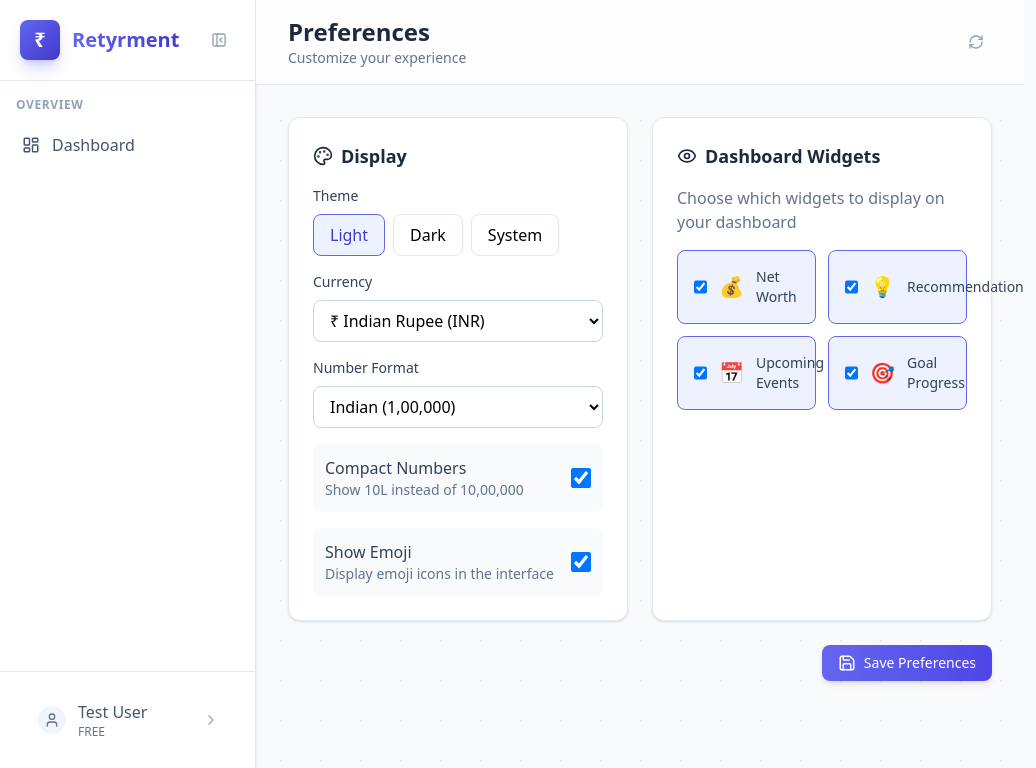
Test: Preferences › hides dashboard emoji icons when showEmoji is disabled
Click the checkbox next to "Display emoji icons in the interface".
click(581, 562)  # box [571, 552, 591, 572]
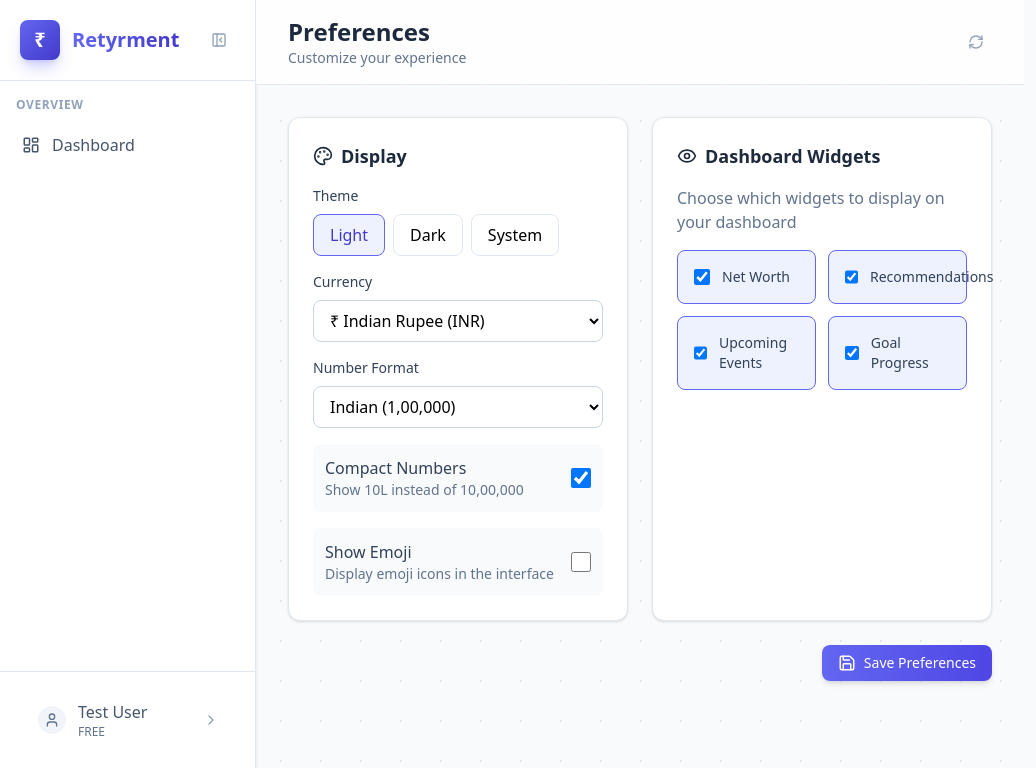
Expected: the text "💰" is gone
Expected: the text "💡" is gone
Expected: the text "📅" is gone
